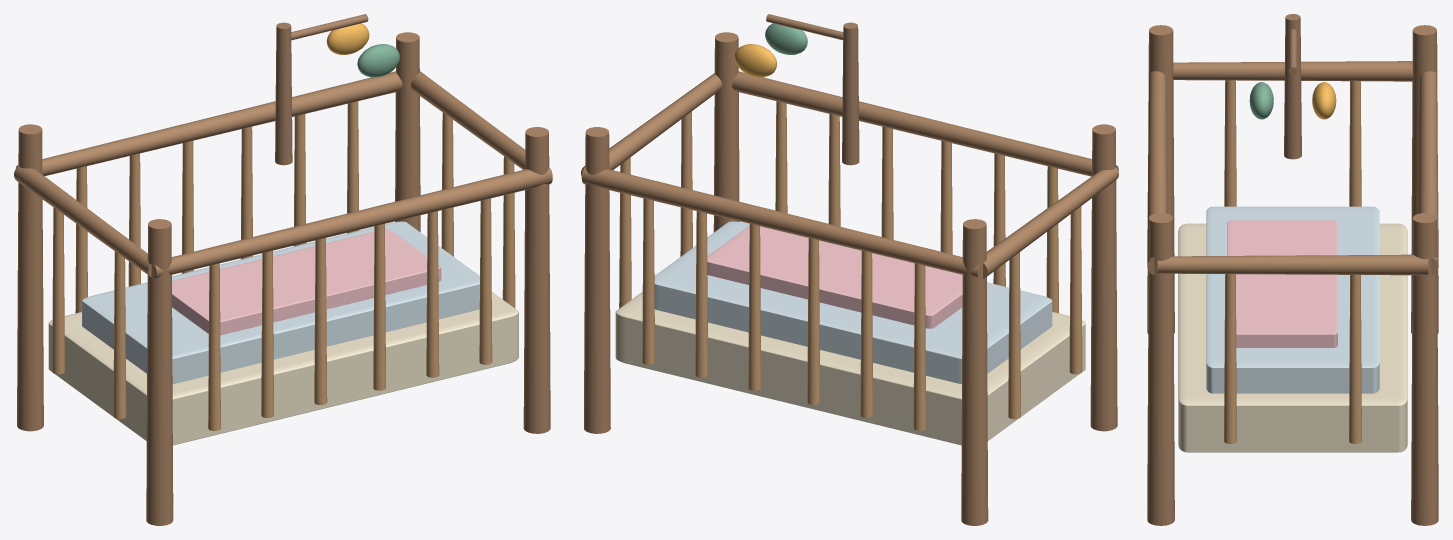
The model's file is crib.glb.
3 views of the same model, side by side, from view 1: azimuth 30°, elevation 25°; view 2: azimuth 150°, elevation 25°; view 3: azimuth 270°, elevation 25° (orthographic).
Parts seen in each view (by area): view 1: rounded crib post (×4), soft crib mattress base, pale blue mattress, long rounded top rail (×2), pink blanket, back vertical crib slat (×6), front vertical crib slat (×6), short rounded top rail (×2), left crib end slat (×2), right crib end slat (×2), mobile upright, green hanging toy (+2 smaller); view 2: rounded crib post (×4), soft crib mattress base, pale blue mattress, long rounded top rail (×2), front vertical crib slat (×6), pink blanket, back vertical crib slat (×6), short rounded top rail (×2), left crib end slat (×2), right crib end slat (×2), mobile upright, yellow hanging toy (+2 smaller); view 3: soft crib mattress base, rounded crib post (×4), pale blue mattress, pink blanket, short rounded top rail (×2), long rounded top rail (×2), right crib end slat (×2), left crib end slat (×2), mobile upright, green hanging toy, yellow hanging toy, mobile arm.
Part boxes in pixels (<box>): rounded crib post (×4): <box>17,32,550,525</box>; soft crib mattress base: <box>48,292,518,445</box>; pale blue mattress: <box>82,221,479,383</box>; long rounded top rail (×2): <box>16,71,552,278</box>; pink blanket: <box>172,229,441,335</box>; back vertical crib slat (×6): <box>208,198,492,430</box>; front vertical crib slat (×6): <box>75,101,359,313</box>; short rounded top rail (×2): <box>14,71,551,276</box>; left crib end slat (×2): <box>52,207,126,419</box>; right crib end slat (×2): <box>441,112,515,308</box>; mobile upright: <box>275,22,292,165</box>; green hanging toy: <box>357,44,399,77</box>; rounded crib post (×4): <box>584,32,1117,525</box>; soft crib mattress base: <box>615,292,1085,445</box>; pale blue mattress: <box>654,221,1052,384</box>; long rounded top rail (×2): <box>581,71,1118,278</box>; front vertical crib slat (×6): <box>642,198,926,430</box>; pink blanket: <box>707,226,962,328</box>; back vertical crib slat (×6): <box>775,101,1058,313</box>; short rounded top rail (×2): <box>581,73,1118,278</box>; left crib end slat (×2): <box>1008,206,1082,419</box>; right crib end slat (×2): <box>619,111,692,308</box>; mobile upright: <box>842,22,859,165</box>; yellow hanging toy: <box>734,44,776,77</box>; soft crib mattress base: <box>1178,223,1407,452</box>; rounded crib post (×4): <box>1147,25,1438,525</box>; pale blue mattress: <box>1206,206,1379,393</box>; pink blanket: <box>1227,220,1337,347</box>; short rounded top rail (×2): <box>1157,61,1428,275</box>; long rounded top rail (×2): <box>1147,71,1438,275</box>; right crib end slat (×2): <box>1224,274,1361,443</box>; left crib end slat (×2): <box>1224,80,1361,206</box>; mobile upright: <box>1284,14,1301,159</box>; green hanging toy: <box>1249,82,1273,119</box>; yellow hanging toy: <box>1312,82,1336,119</box>; mobile arm: <box>1289,29,1296,74</box>.
Bounding box in the file's own units: 1.38 × 1.3 × 0.84.
